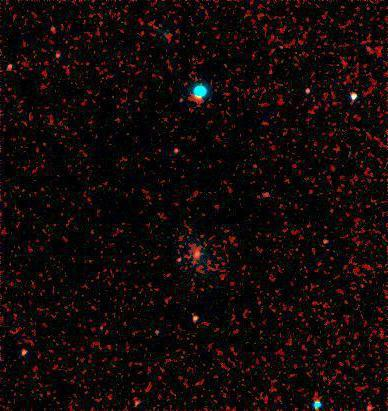star: (184, 242, 214, 272)
